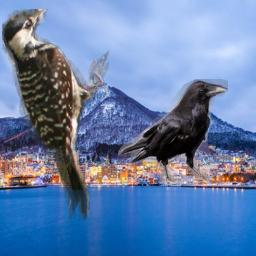Crow: (118, 79, 228, 184)
Woodpecker: (2, 9, 109, 220)
